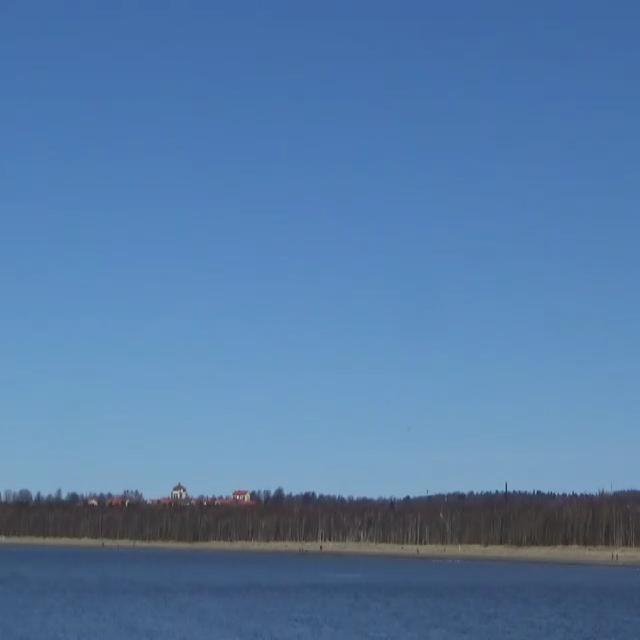Helicopter: (391, 407, 428, 449)
